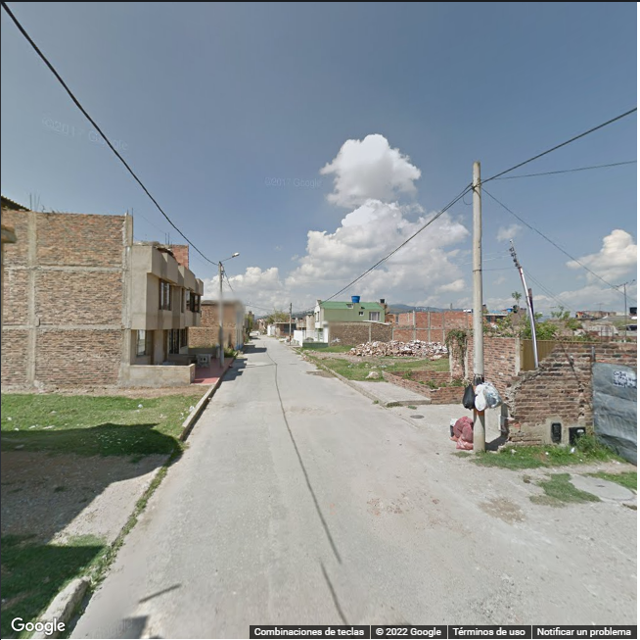D00: (437, 474, 479, 507)
D40: (475, 587, 527, 622)
